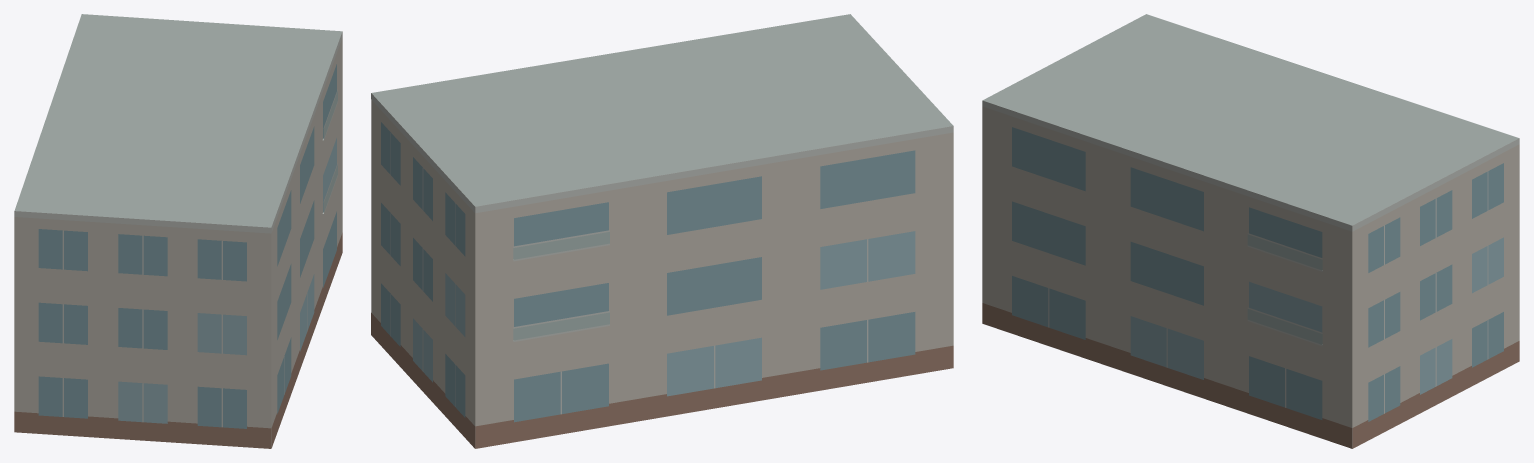
The model's file is survey-upis-32754221.glb.
3 renders of one model, left to right at view 1: azimuth 30°, elevation 25°; view 2: azimuth 150°, elevation 25°; view 3: azimuth 270°, elevation 25°, orthographic. The views are drawn at different scales.
Parts seen in each view (by area): view 1: survey-upis-32754221.tmp; view 2: survey-upis-32754221.tmp; view 3: survey-upis-32754221.tmp.
Part boxes in pixels (left/top/right/bottom): survey-upis-32754221.tmp: left=14, top=14, right=342, bottom=448; survey-upis-32754221.tmp: left=371, top=14, right=953, bottom=448; survey-upis-32754221.tmp: left=982, top=14, right=1519, bottom=448.
Bounding box in the file's own units: 18.63 × 9.15 × 19.98.
